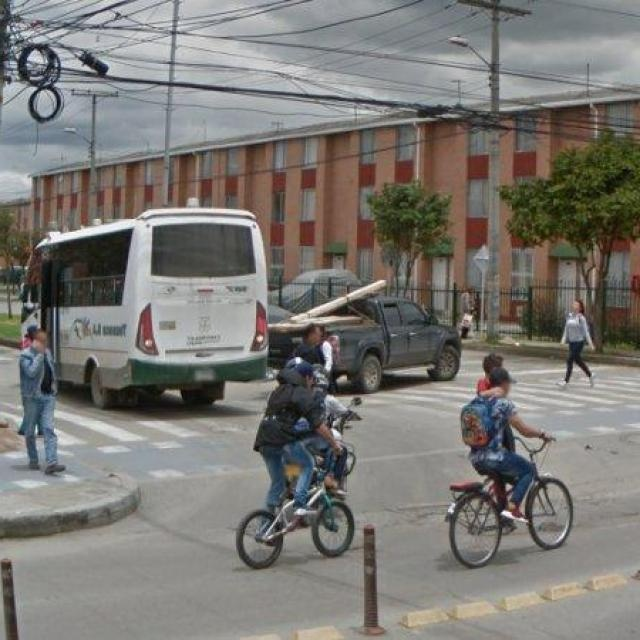bicycle: (435, 432, 589, 578), (226, 452, 363, 585)
bus: (11, 201, 285, 403)
car: (285, 264, 491, 395)
